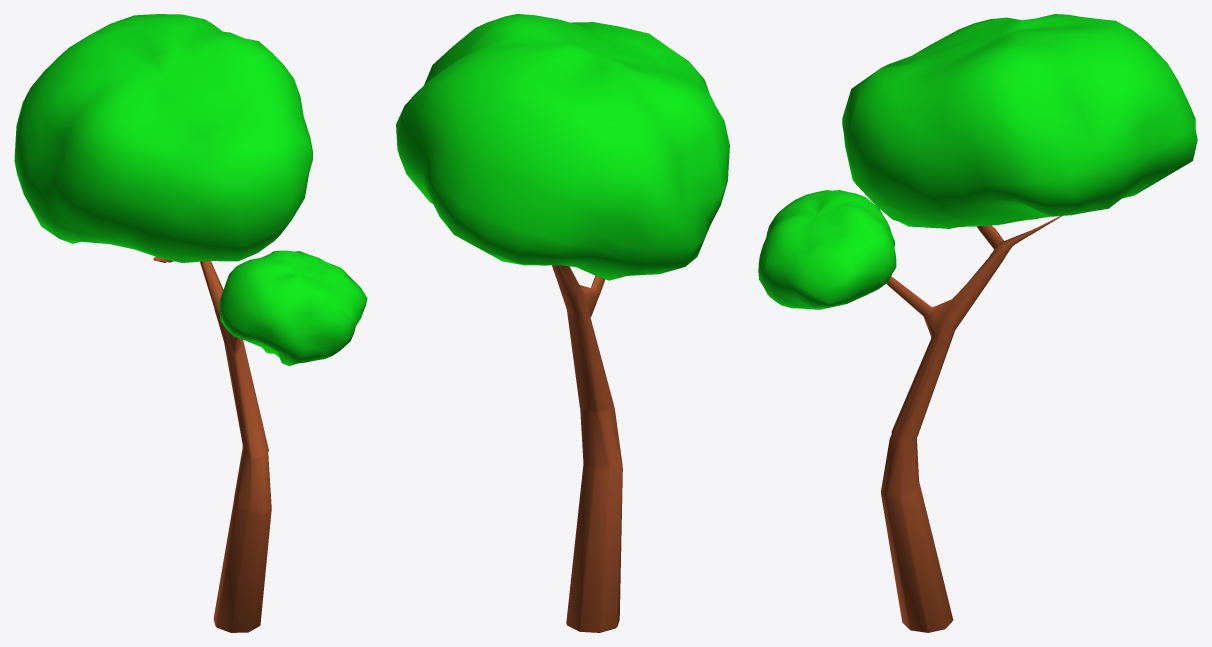
The model's file is drzewo1.fbx.
The picture shows the model from 3 angles, left to right: view 1: azimuth 30°, elevation 25°; view 2: azimuth 150°, elevation 25°; view 3: azimuth 270°, elevation 25°; orthographic projection. The views are drawn at different scales.
Visible parts, largest first — view 1: Sphere.001, Sphere.002, Cylinder; view 2: Sphere.001, Cylinder; view 3: Sphere.001, Cylinder, Sphere.002.
Boxes of the visible parts, left/top/right/bottom form: Sphere.001: left=14, top=14, right=312, bottom=262; Sphere.002: left=219, top=250, right=367, bottom=366; Cylinder: left=153, top=257, right=271, bottom=632; Sphere.001: left=396, top=14, right=729, bottom=280; Cylinder: left=552, top=265, right=622, bottom=632; Sphere.001: left=842, top=14, right=1197, bottom=228; Cylinder: left=881, top=216, right=1061, bottom=632; Sphere.002: left=758, top=190, right=896, bottom=309.
Bounding box in the file's own units: 299 × 627 × 426.
